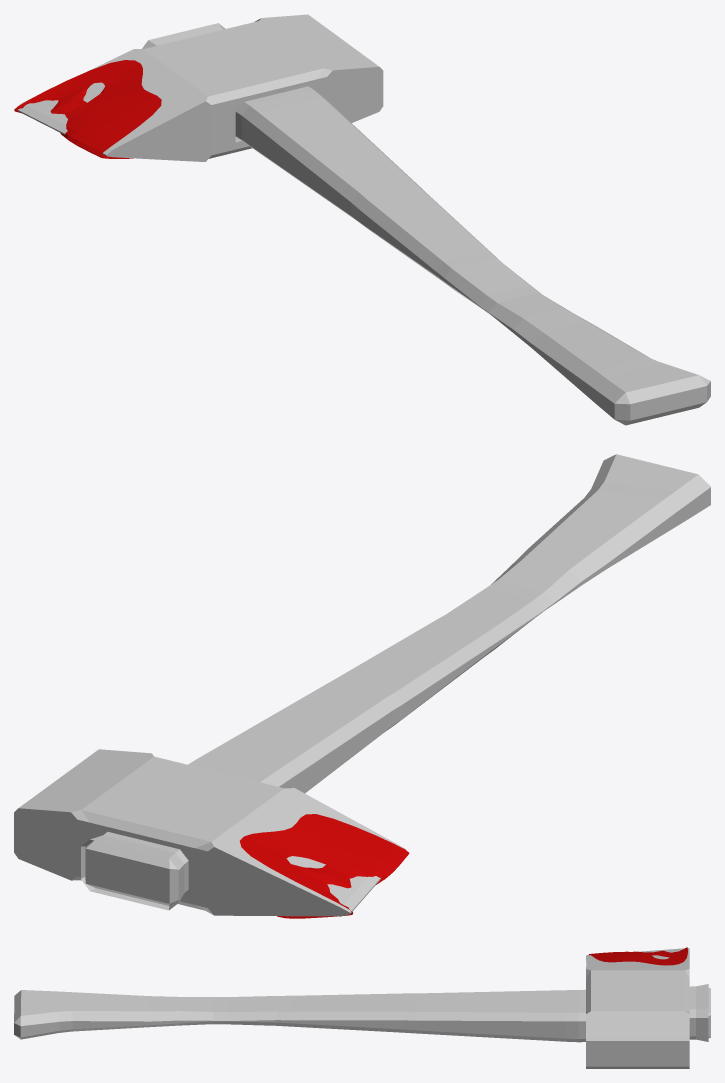
Rendered from Axe.obj.
3 renders of one model, top to bottom at view 1: azimuth 30°, elevation 25°; view 2: azimuth 150°, elevation 25°; view 3: azimuth 270°, elevation 25°, orthographic. The views are drawn at different scales.
Visible parts, largest first — view 1: Cube.001_Cube.002, Cube_Cube.001, Plane_Plane; view 2: Cube.001_Cube.002, Cube_Cube.001, Plane_Plane; view 3: Cube.001_Cube.002, Cube_Cube.001, Plane_Plane.
Boxes of the visible parts, <box> form: Cube.001_Cube.002: <box>142,23,710,425</box>; Cube_Cube.001: <box>15,14,383,161</box>; Plane_Plane: <box>14,60,161,158</box>; Cube.001_Cube.002: <box>81,454,710,910</box>; Cube_Cube.001: <box>14,749,405,916</box>; Plane_Plane: <box>240,814,409,918</box>; Cube.001_Cube.002: <box>14,984,710,1042</box>; Cube_Cube.001: <box>586,948,689,1068</box>; Plane_Plane: <box>588,947,687,965</box>.
Bounding box in the file's own units: 0.566 × 0.1128 × 1.57.
